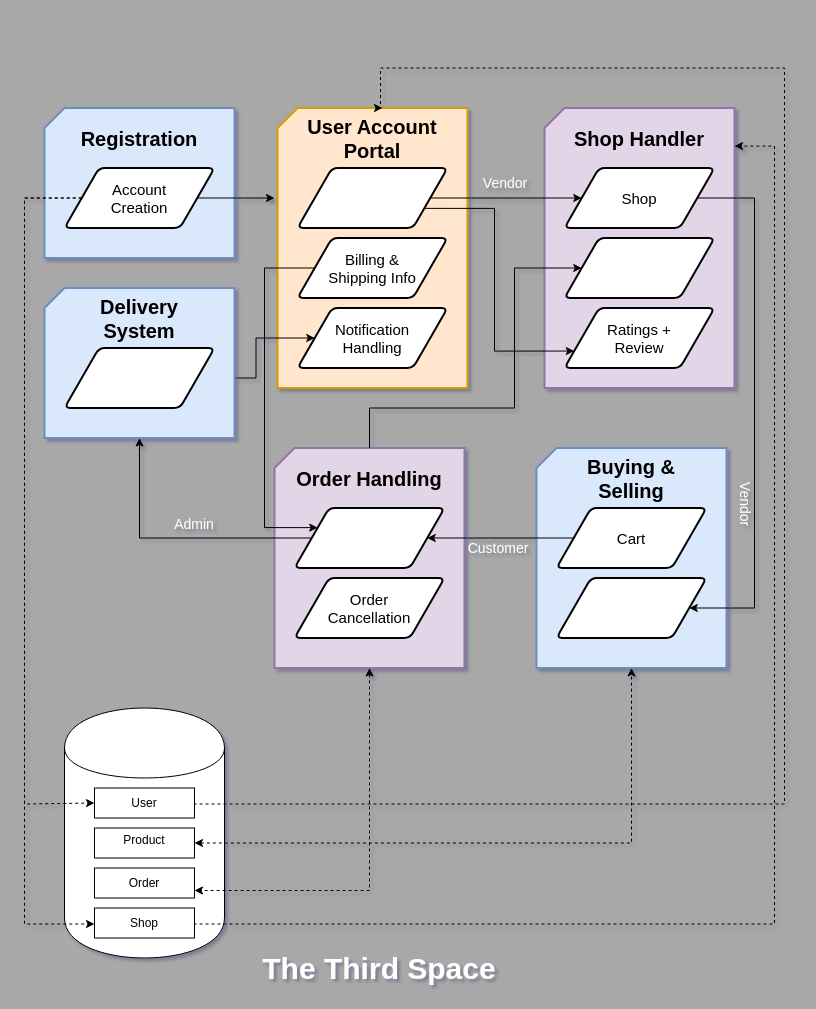
The diagram is 816 pixels wide and 1009 high, and some of its shapes have lost their labels. Each missing label, with the centre of its shape:
Notifications: [639,267]
Order Placement: [369,537]
Order Progress: [139,377]
Product Upload: [631,607]
User Status: [372,197]
